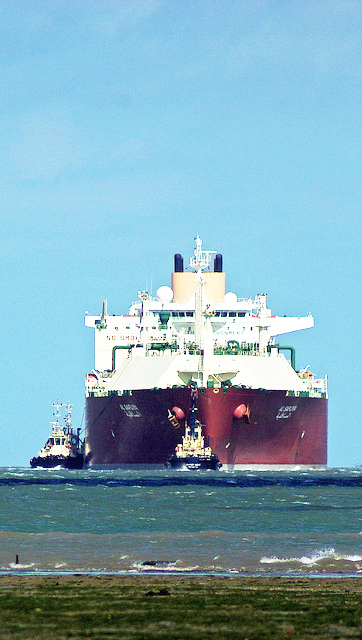LNG_ship: (84, 233, 332, 469)
tug_boat: (167, 396, 230, 475), (26, 396, 85, 467)
